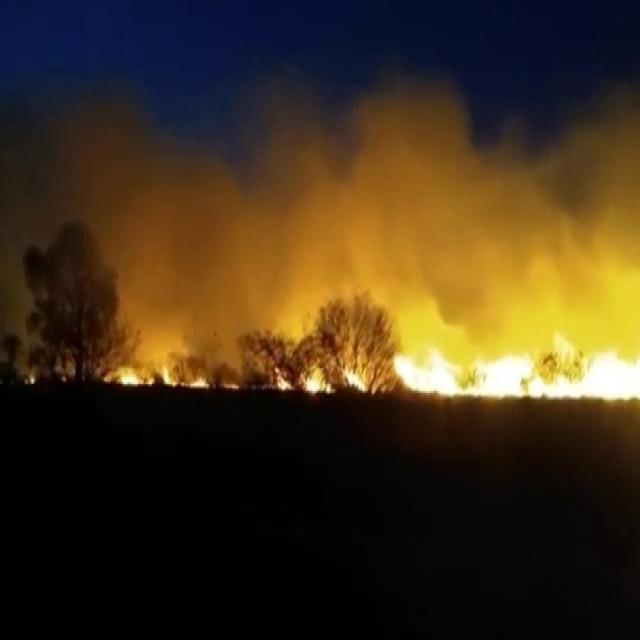Fire: (384, 325, 640, 402), (111, 356, 213, 392), (303, 362, 331, 394), (342, 361, 367, 393)
Smoke: (11, 58, 392, 292)
